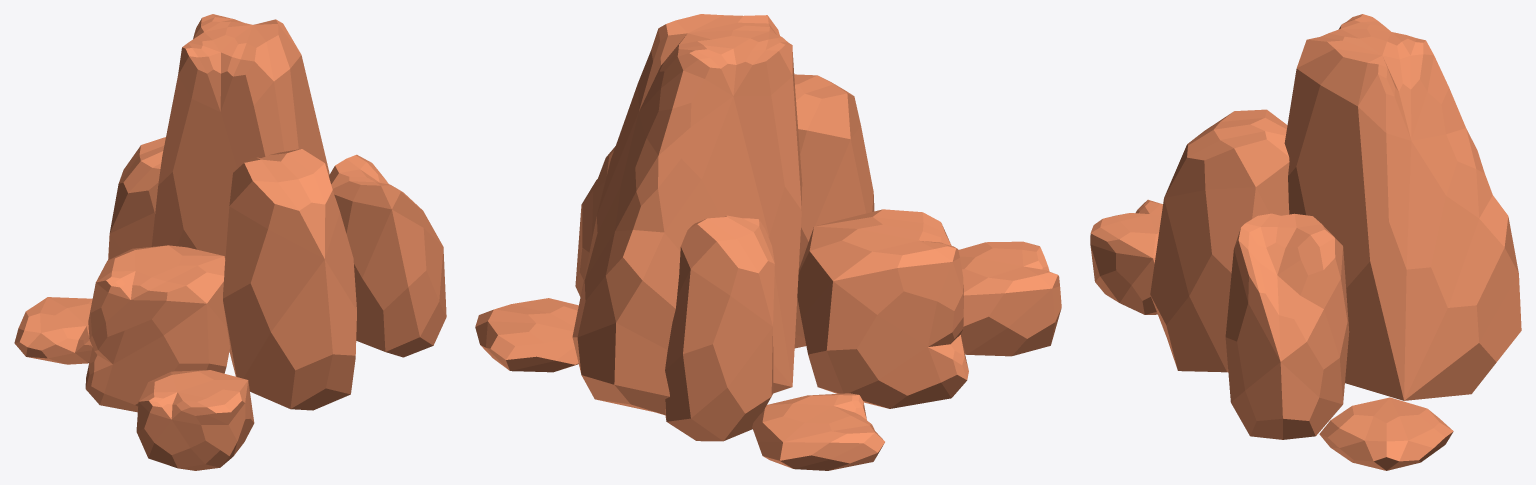
Rendered from rock2.glb.
The picture shows the model from 3 angles, left to right: view 1: azimuth 30°, elevation 25°; view 2: azimuth 150°, elevation 25°; view 3: azimuth 270°, elevation 25°; orthographic projection. The views are drawn at different scales.
Visible parts, largest first — view 1: rock_07; view 2: rock_07; view 3: rock_07.
Boxes of the visible parts, x1,y1,x2,y2 form: rock_07: (14,14,446,470); rock_07: (475,14,1061,470); rock_07: (1090,14,1521,470).
Size of the model in its own units: 88.35 by 66.14 by 77.67.
Materials: 1 (1 with a texture image).
